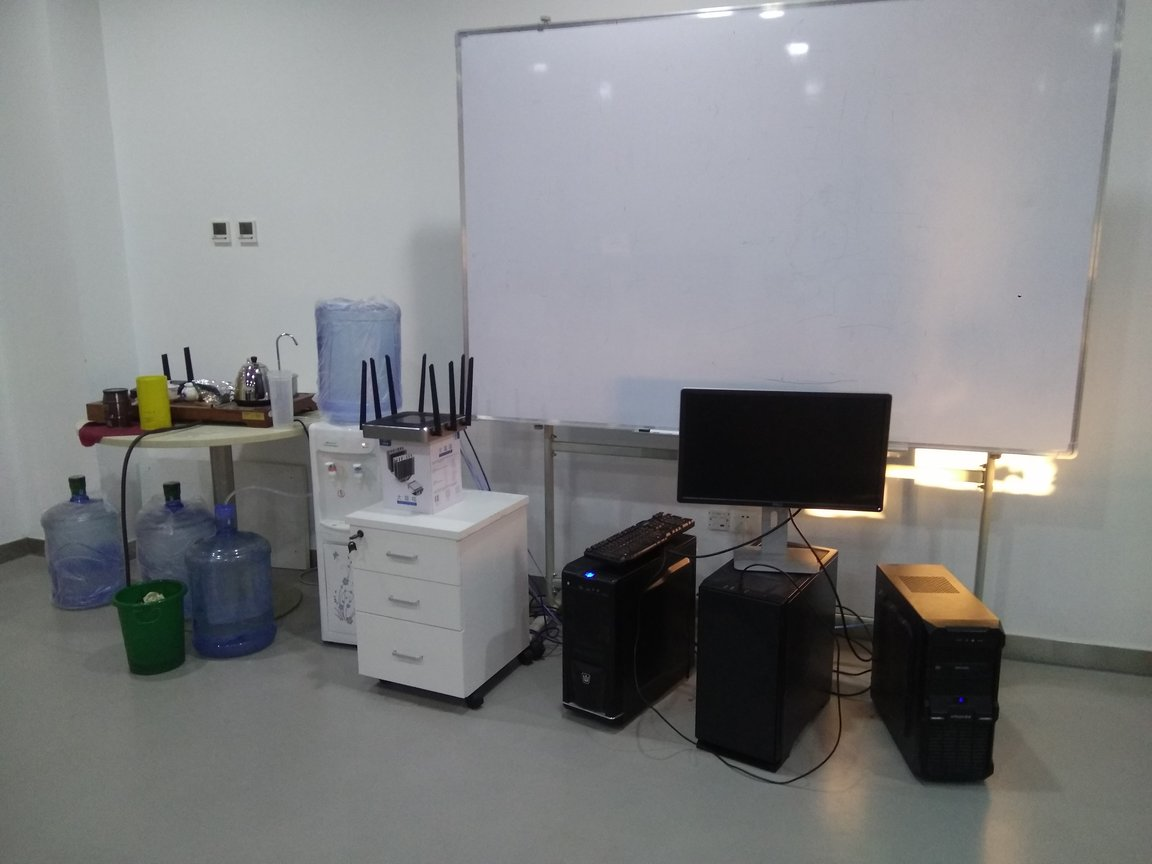computer: (702, 540, 845, 776), (868, 558, 1001, 789), (562, 533, 701, 751)
drawer chest: (344, 488, 533, 714)
monitor: (672, 386, 893, 581)
scuttlebutt: (191, 503, 284, 665), (134, 484, 227, 635), (305, 290, 405, 424), (39, 475, 127, 612)
water dispenser: (303, 412, 428, 667)
